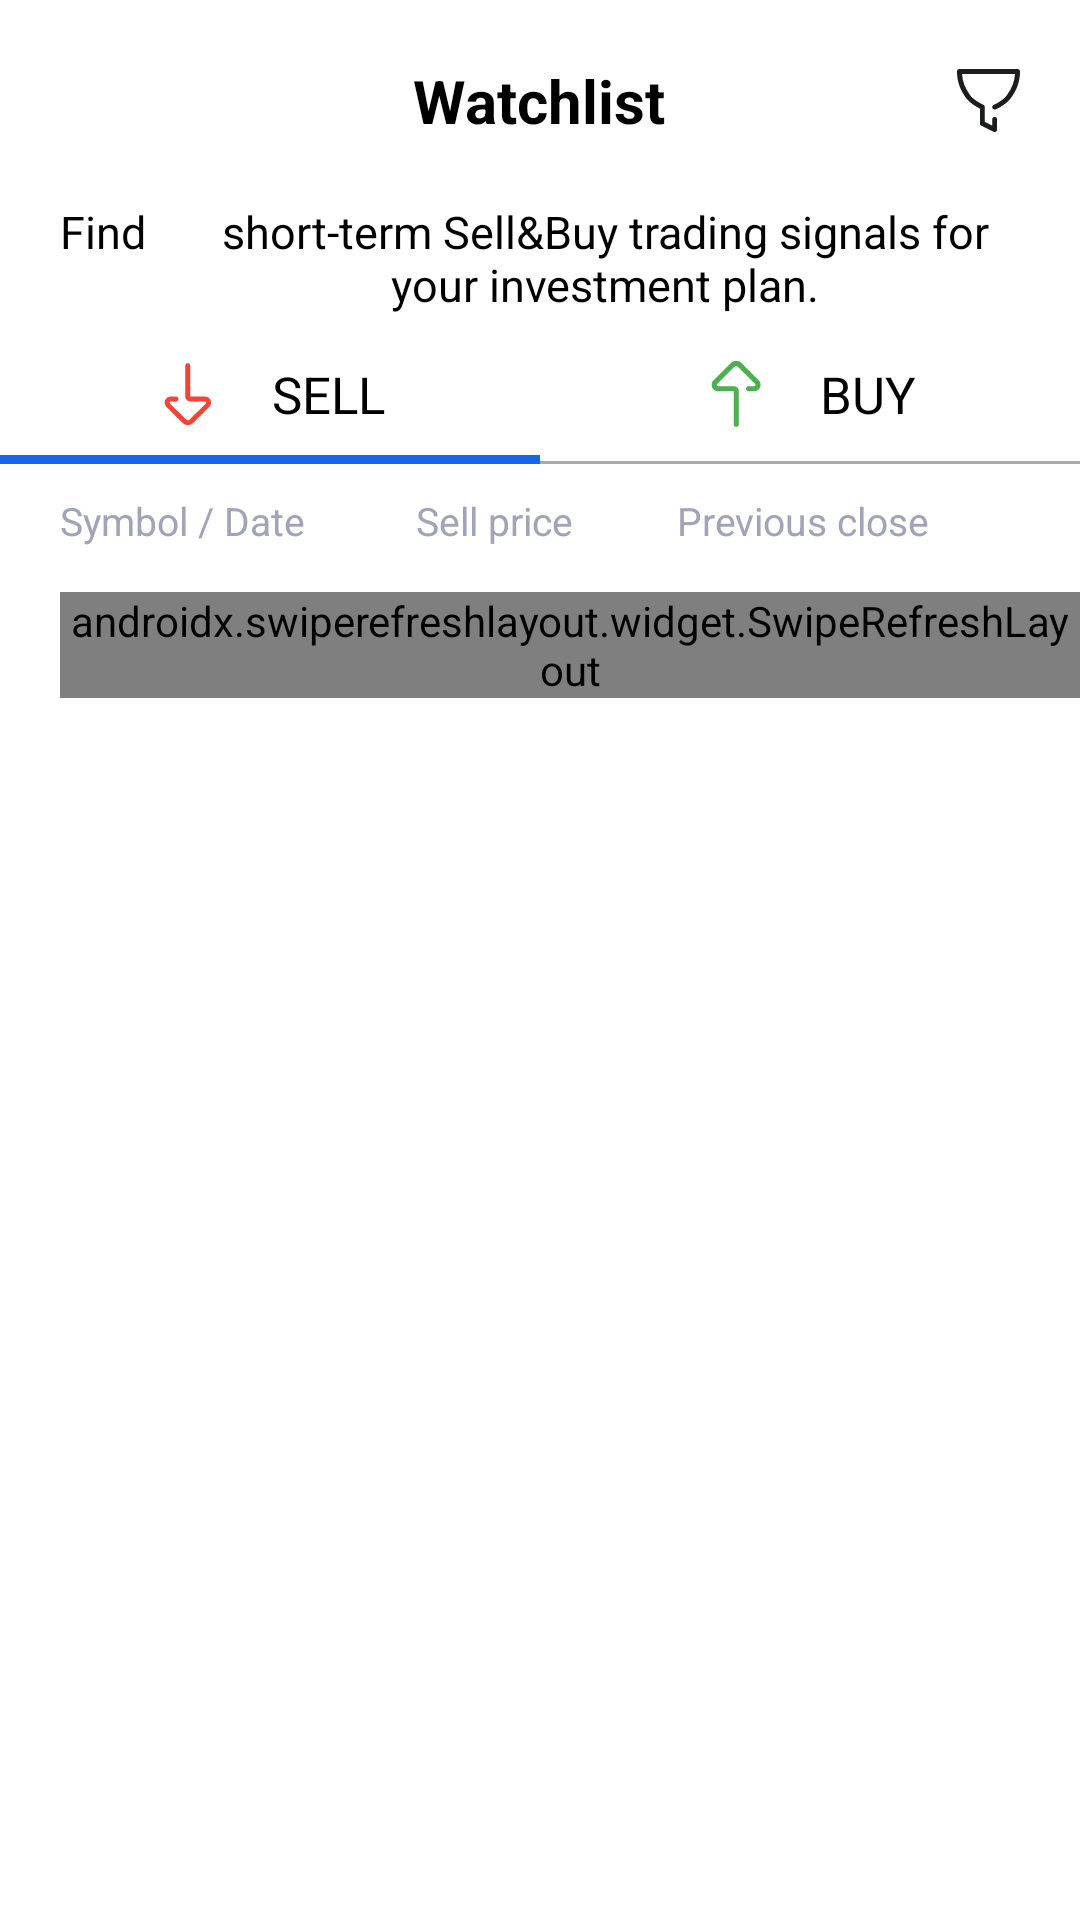

Screen size 1080 × 1920. Icon name, then its box in pixels as rect(x1, y1, x2, y2):
filter: rect(957, 69, 1020, 132)
